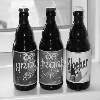beer: (11, 5, 38, 92)
